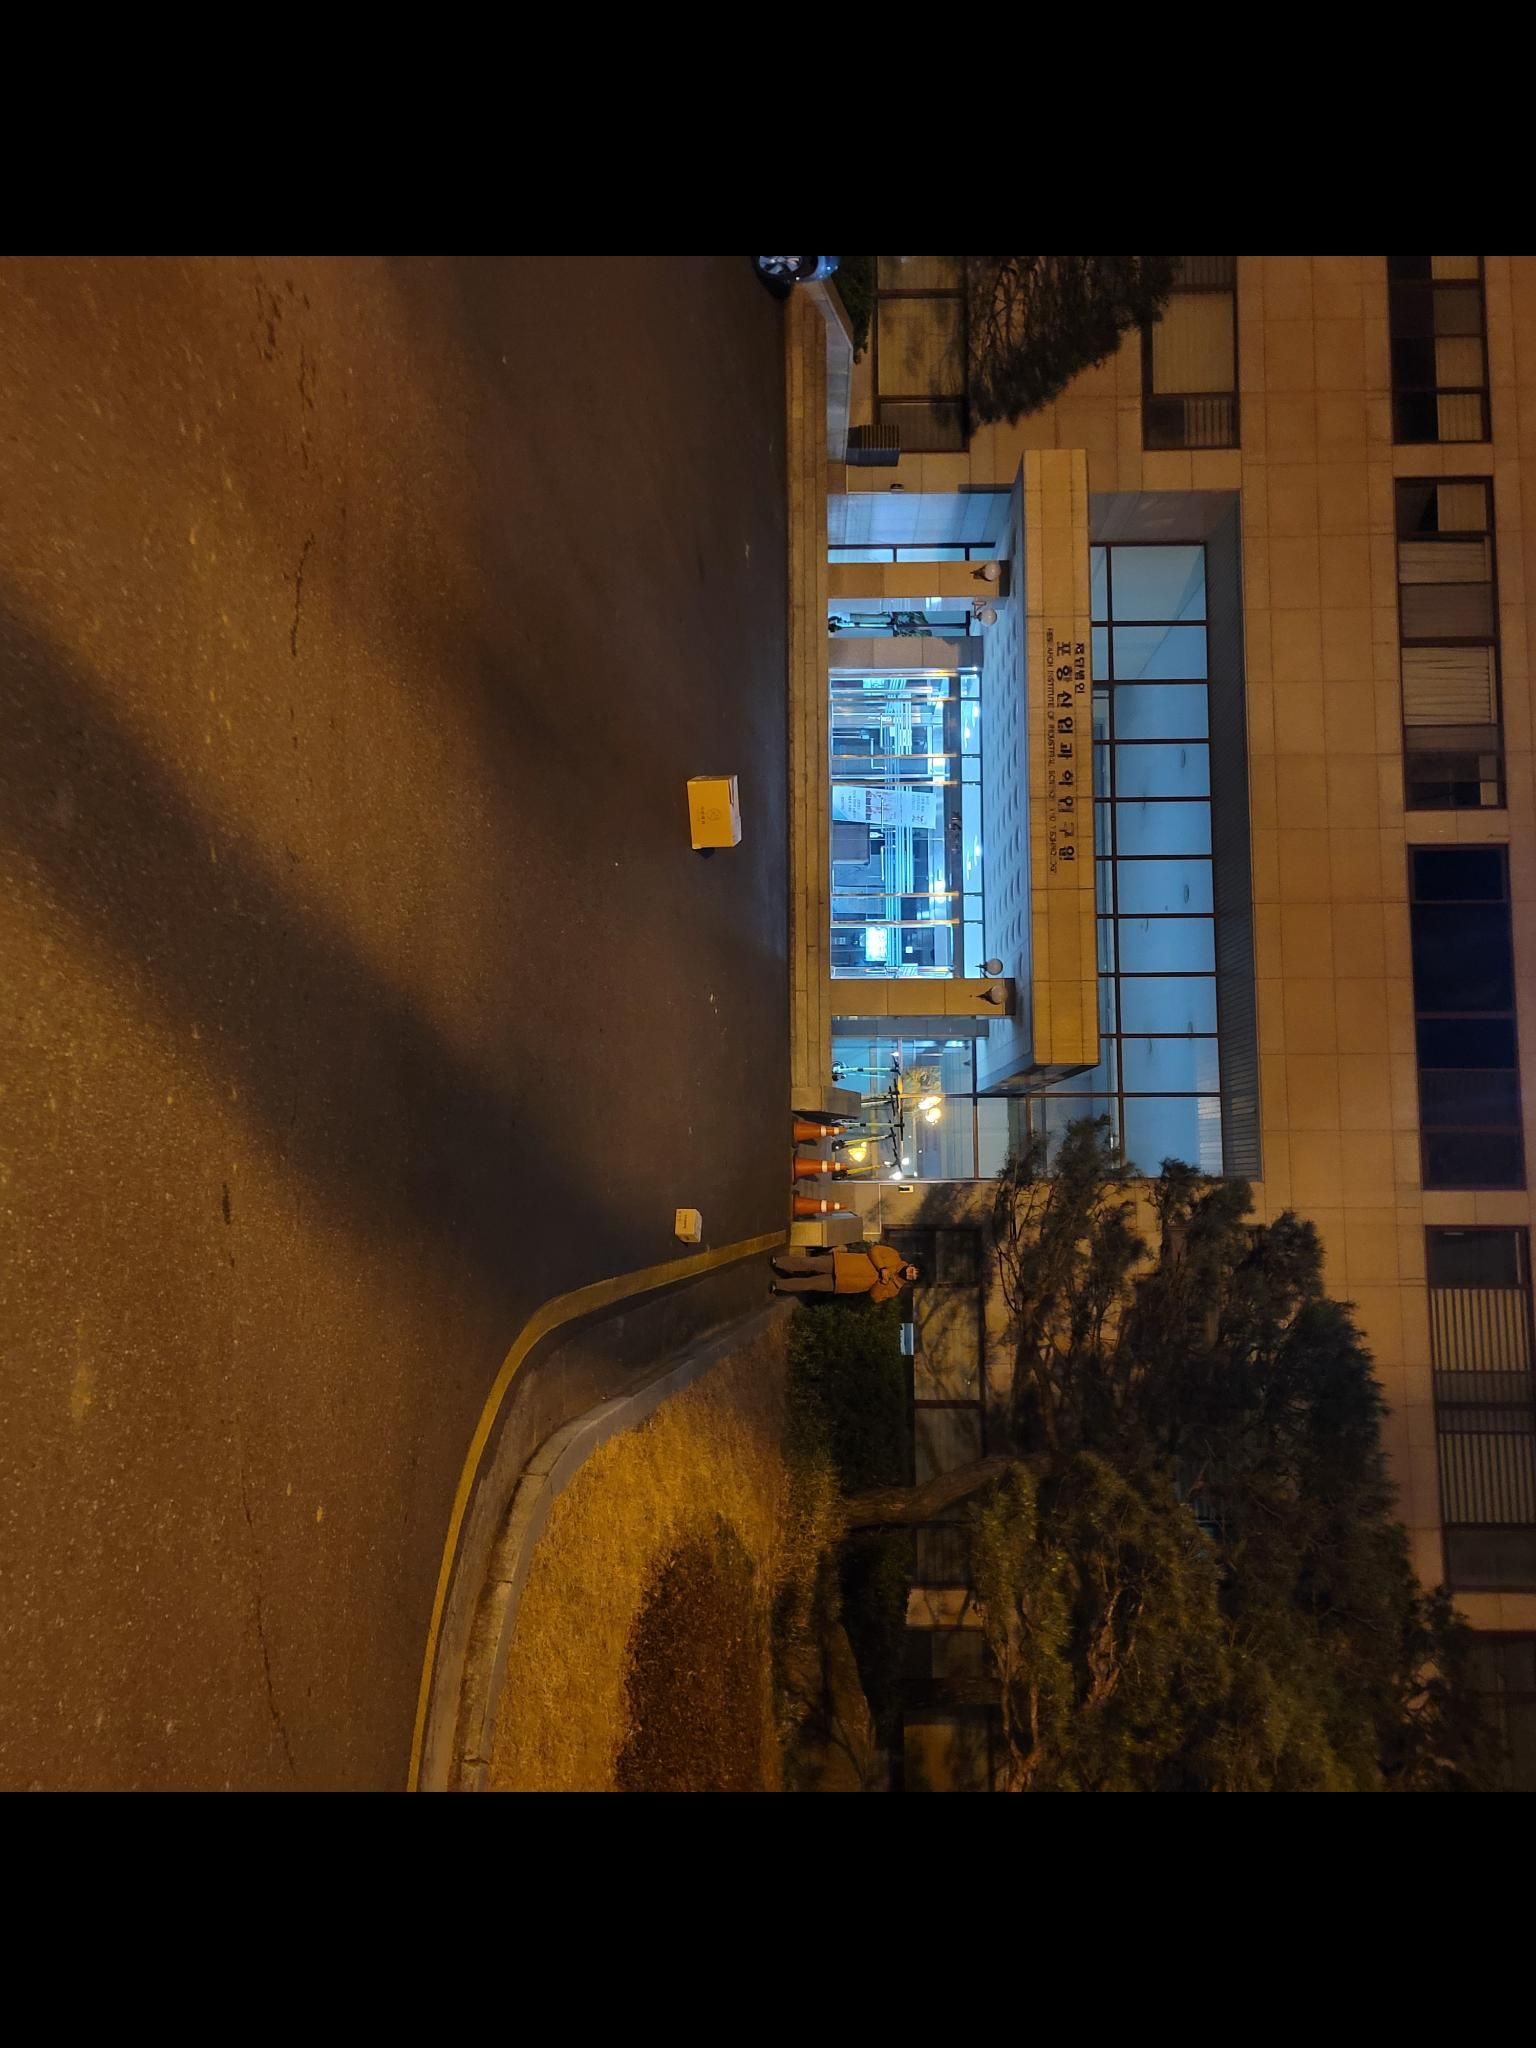Box: (673, 763, 752, 871), (666, 1208, 712, 1247)
